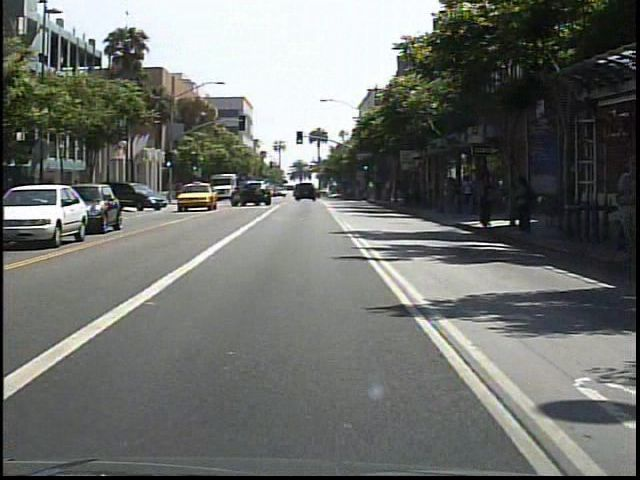person: (477, 164, 502, 233), (513, 175, 537, 242), (461, 173, 477, 214)
